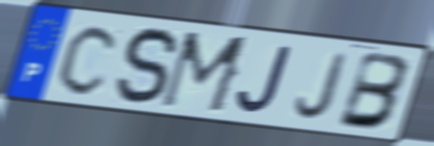B: (334, 48, 412, 132)
C: (55, 22, 122, 98)
J: (234, 44, 296, 116), (293, 50, 353, 122)
M: (154, 29, 253, 117)
S: (112, 25, 182, 108)
